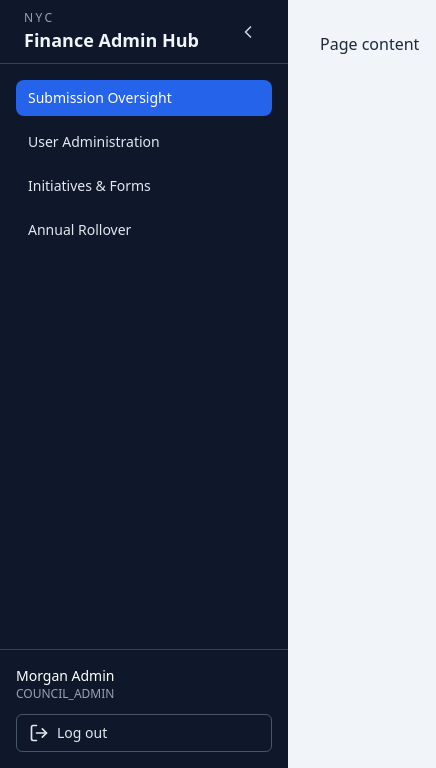
Layout sidebar › collapses to initials and a logout icon, then expands again
Expected: the text "Finance Admin Hub" is shown, left=24, top=26, right=199, bottom=54
Expected: the text "Morgan Admin" is shown, left=16, top=666, right=114, bottom=685
Click the button named "Collapse sidebar": (248, 32) left=232, top=16, right=264, bottom=48
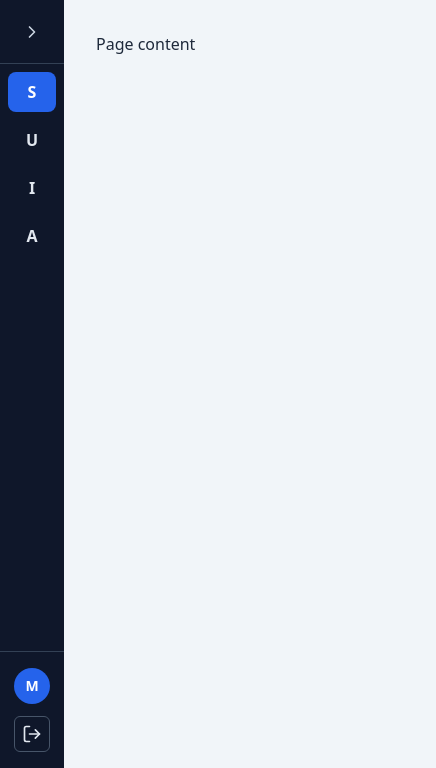
Expected: the text "Finance Admin Hub" is gone
Expected: the text "Morgan Admin" is gone
Expected: the link named "Submission Oversight" reads "S", left=8, top=72, right=56, bottom=112
Click the button named "Expand sidebar": (32, 32) left=16, top=16, right=48, bottom=48
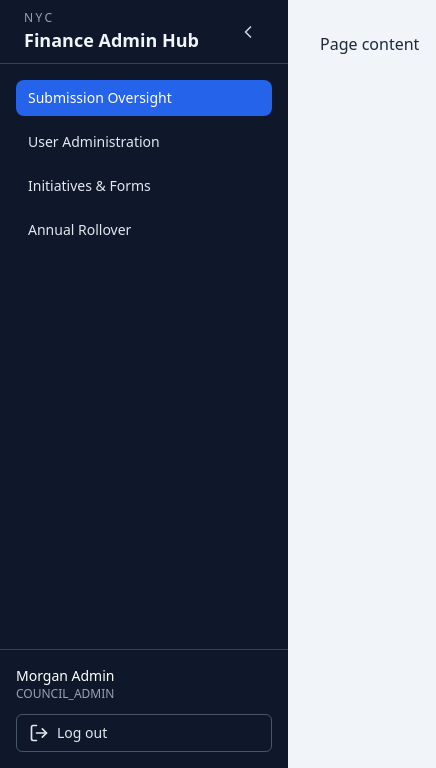
Expected: the text "Morgan Admin" is shown, left=16, top=666, right=114, bottom=685
